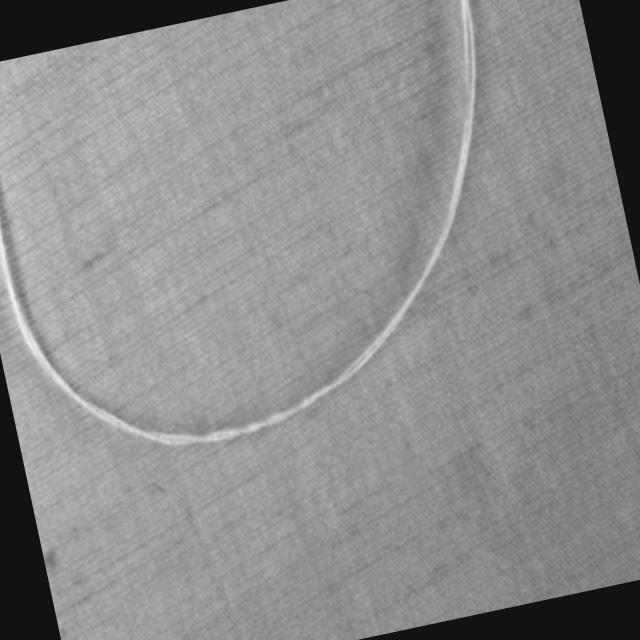objects: (0, 0, 554, 486)
